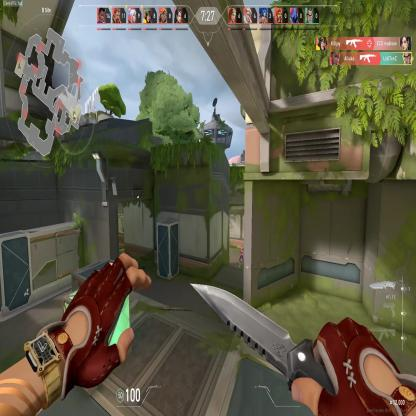enemy: (238, 244, 244, 267)
